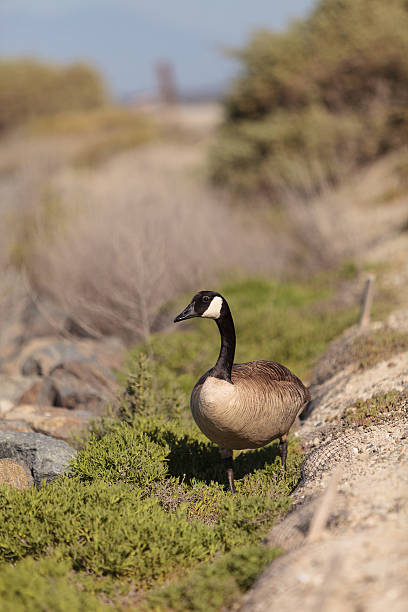goose: (171, 288, 315, 490)
